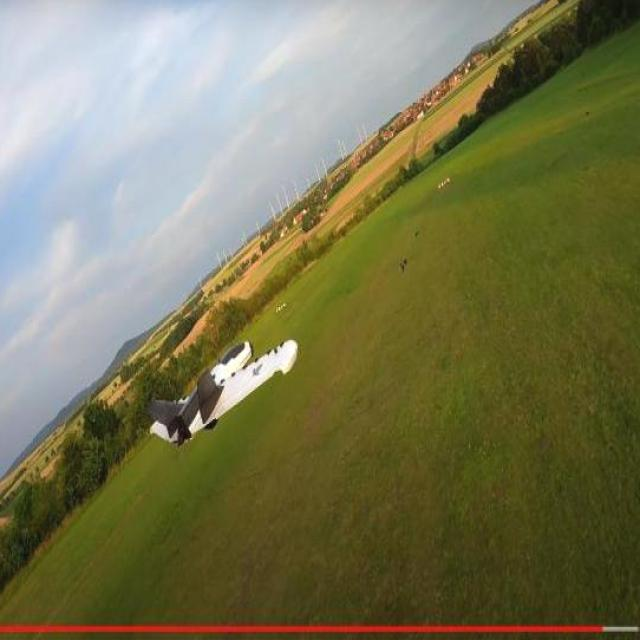plane: (148, 337, 302, 448)
